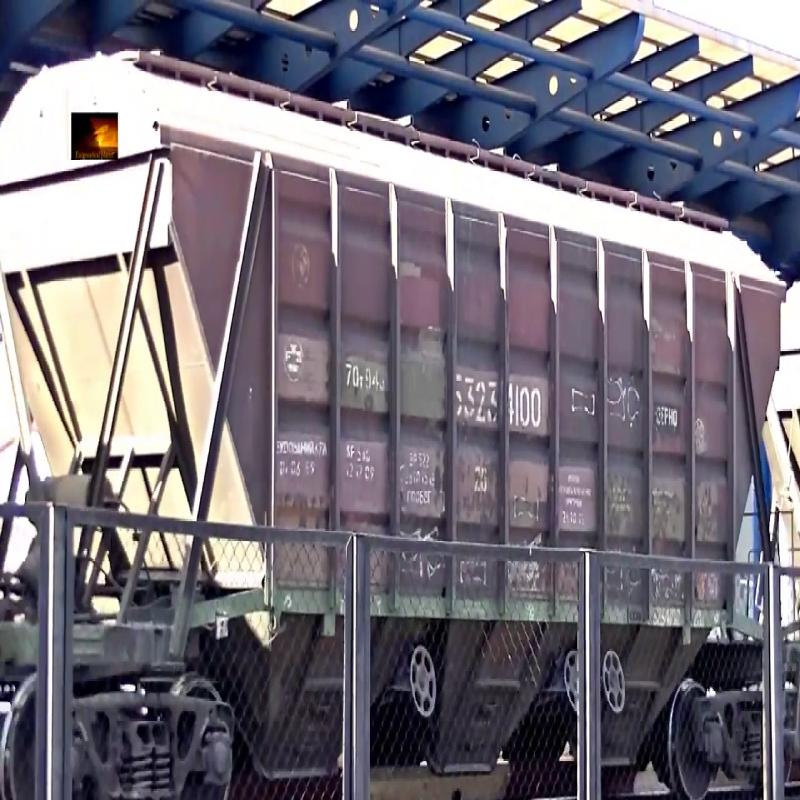train: (16, 21, 800, 769)
